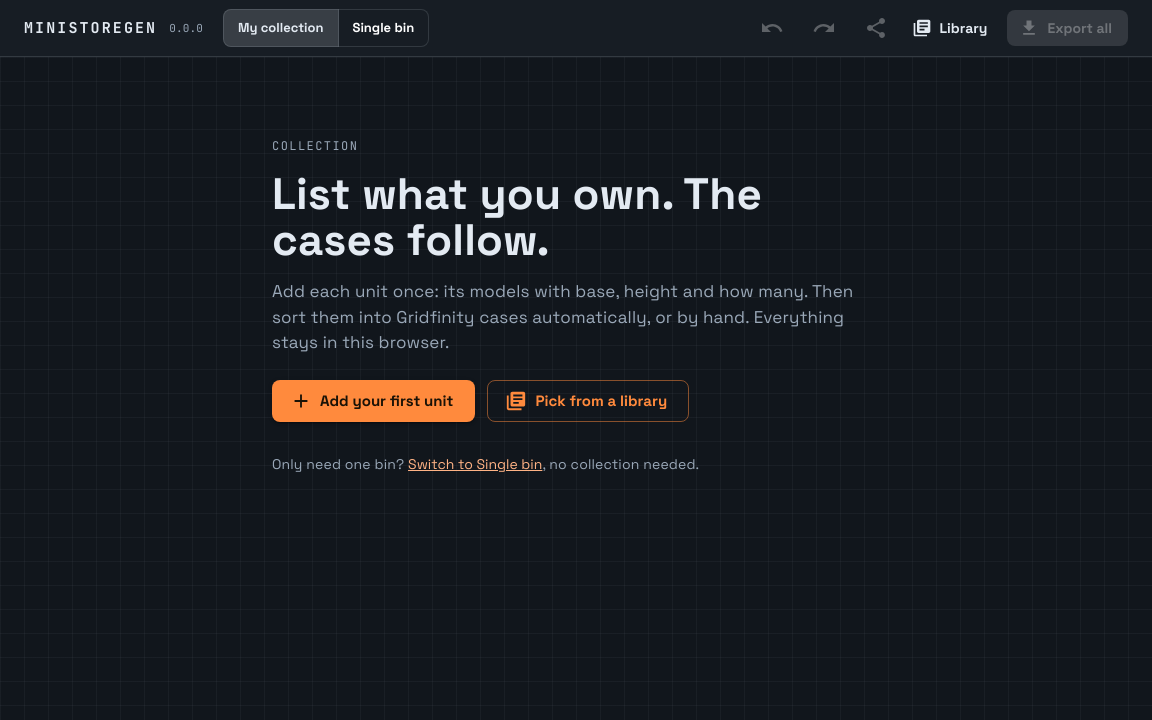
a unit can be moved into a case from its shelf menu, and taken out again
The image size is (1152, 720).
Later steps or results of the test are not shown.
Click the button "Add your first unit". click: (374, 401)
box: [272, 380, 475, 422]
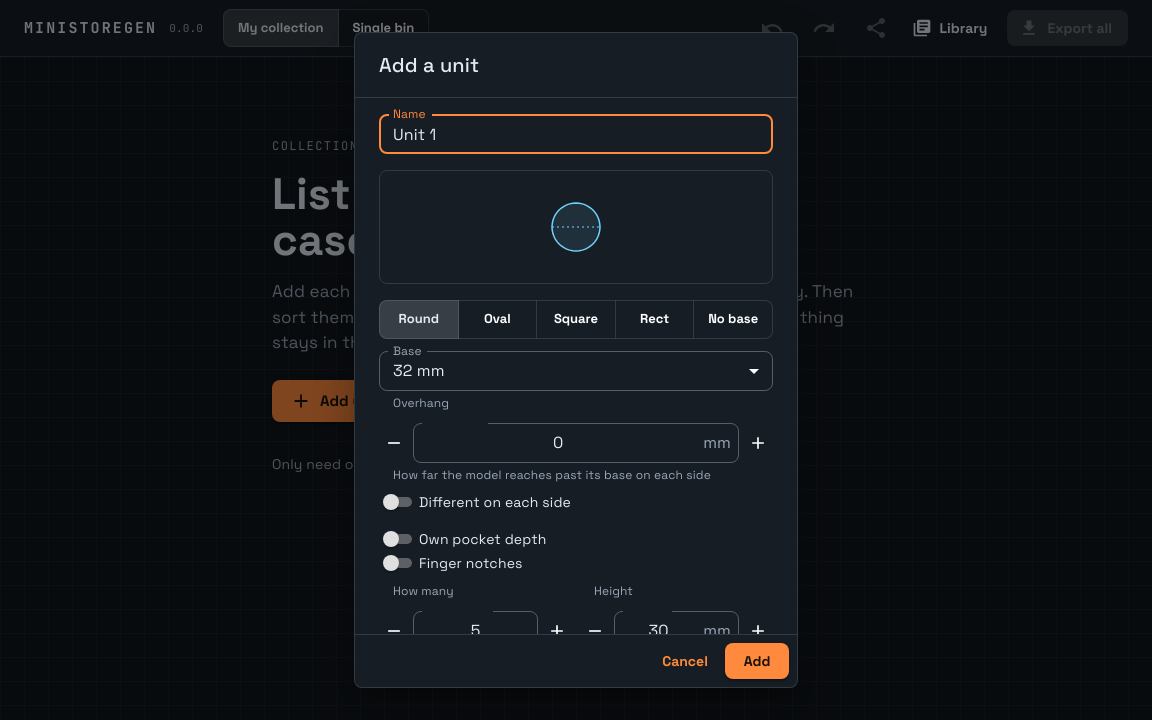
Replace the text in the field labelled "Name" with "Intercessors". click: (576, 134)
box: [379, 114, 773, 154]
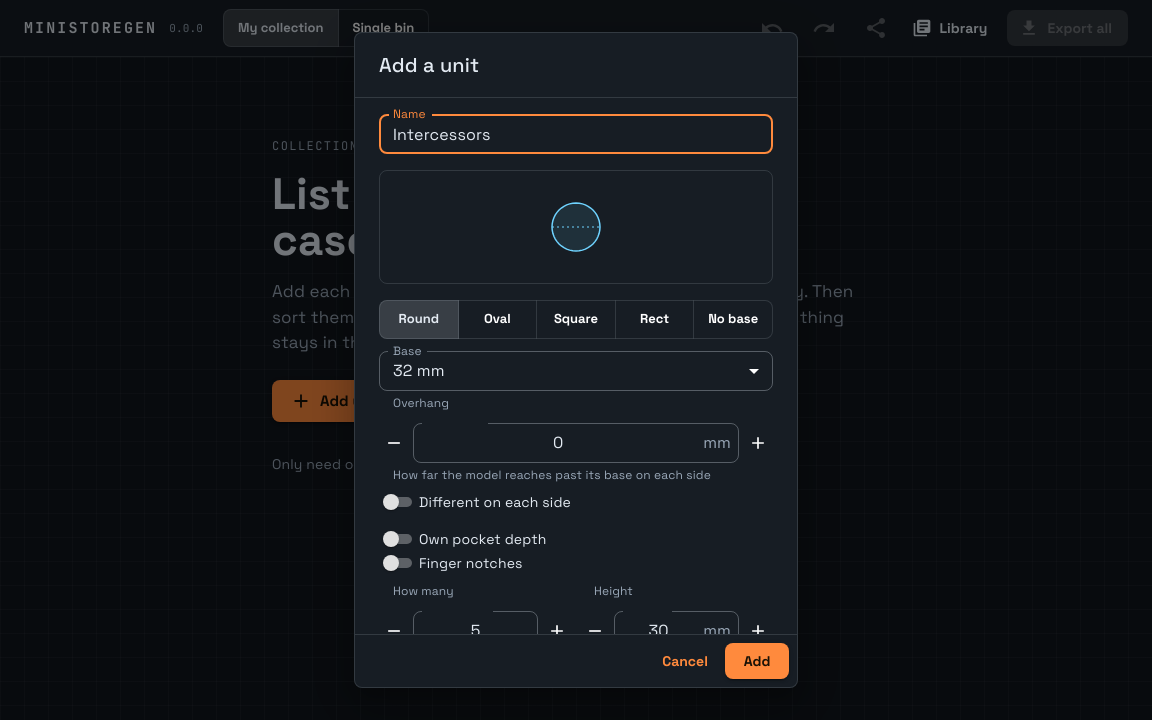
Replace the text in the number field labelled "How many" with "3". click: (476, 631)
box: [413, 611, 538, 651]
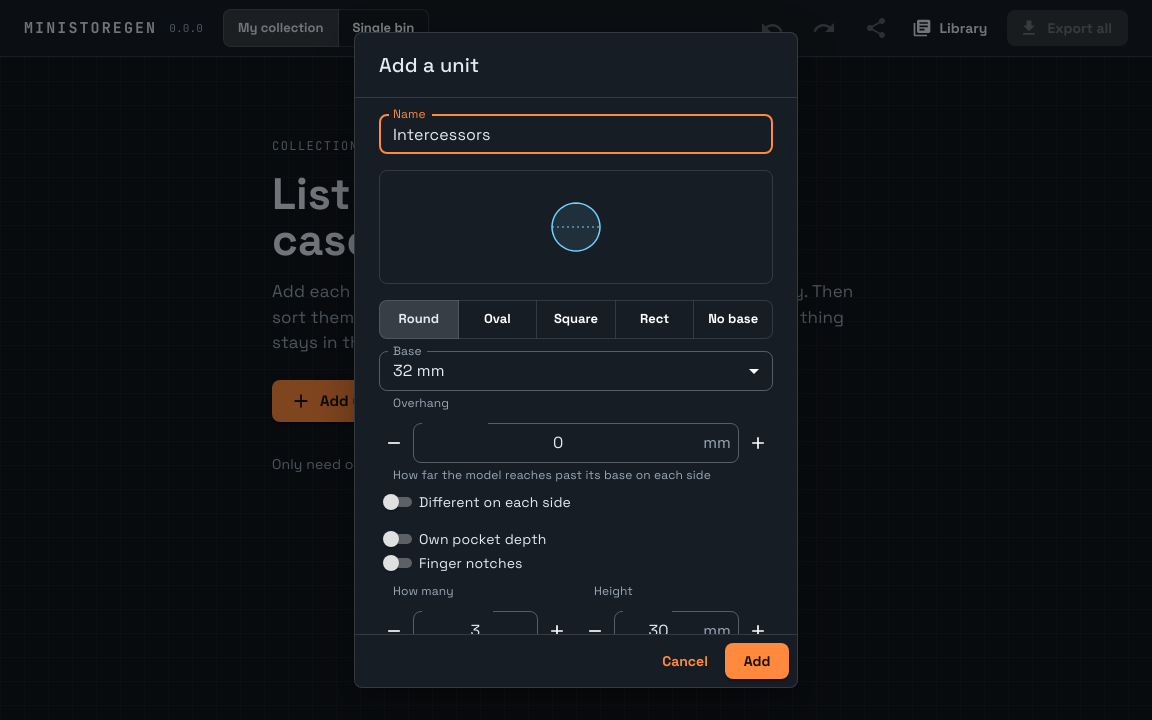
Click the button "Add". click: (757, 661)
box: [725, 642, 789, 679]
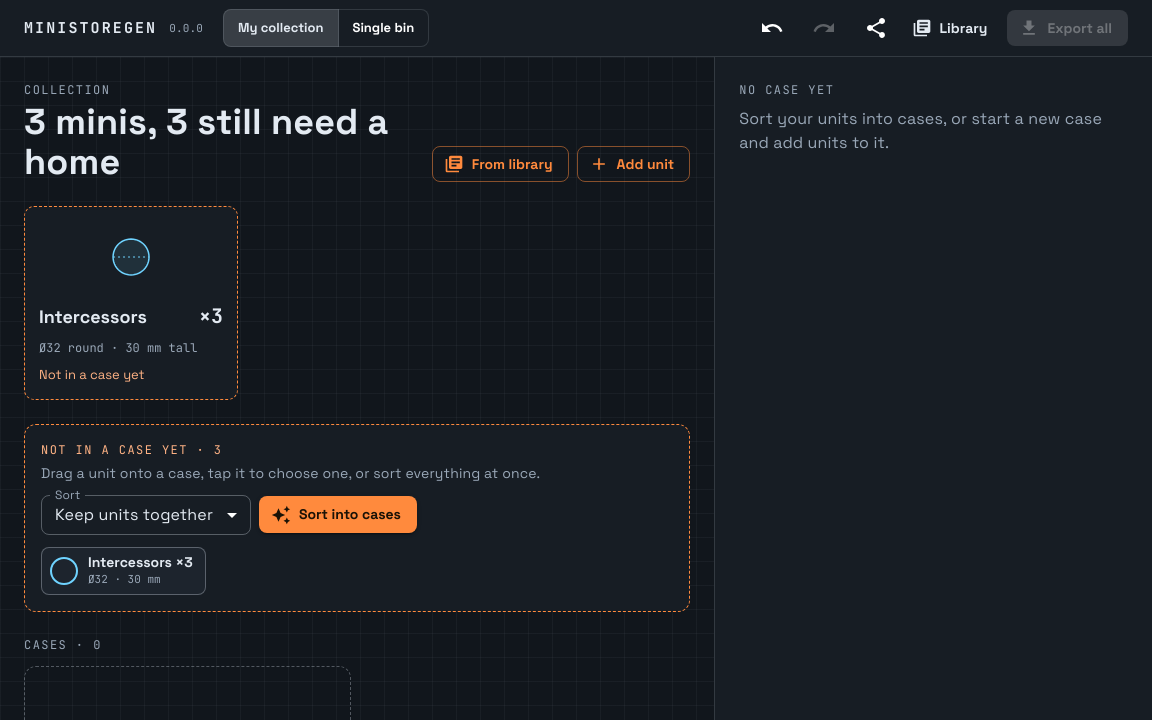
Click the button with aria-label "Intercessors, 3 waiting". click: (123, 571)
box: [41, 547, 206, 595]
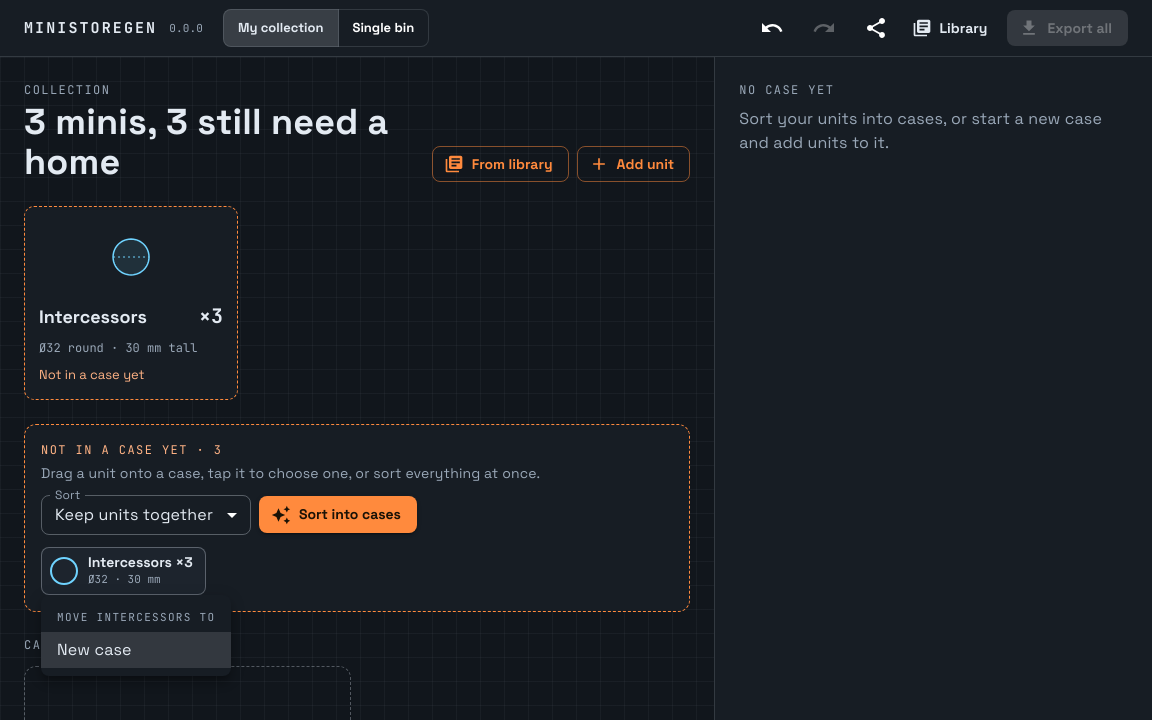
Click the menu item "New case". click: (136, 650)
box: [41, 632, 231, 668]
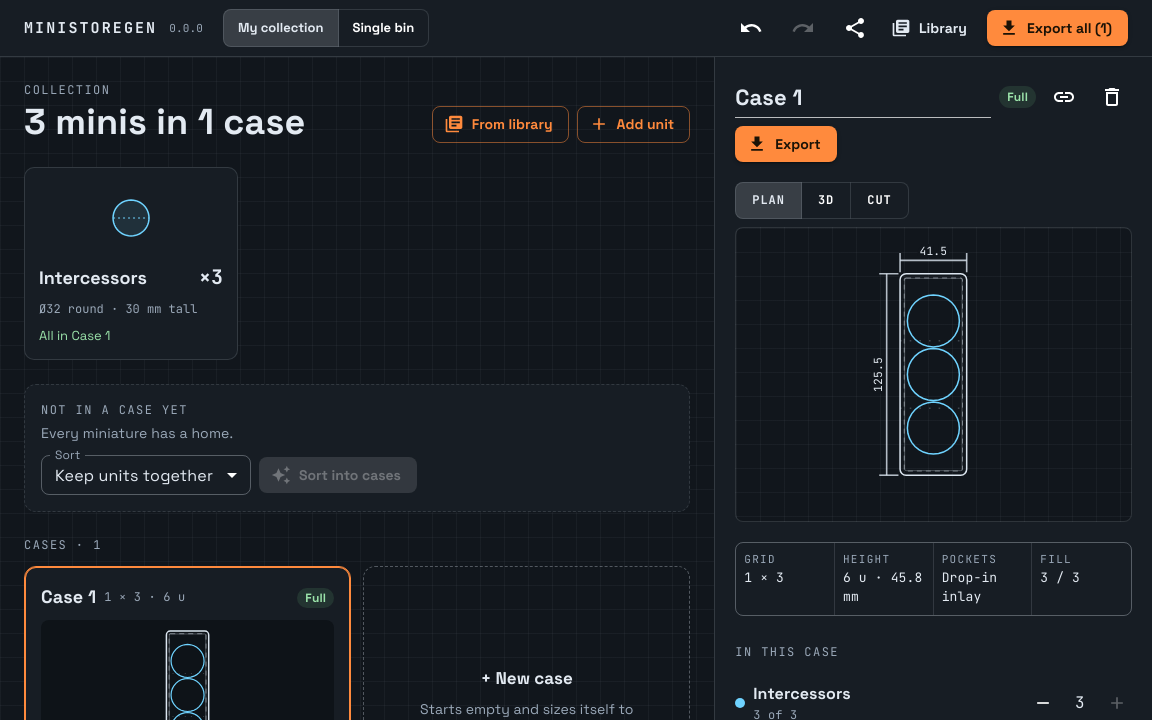
Result: the text "3 of 3" is shown at [753, 707, 797, 719]
